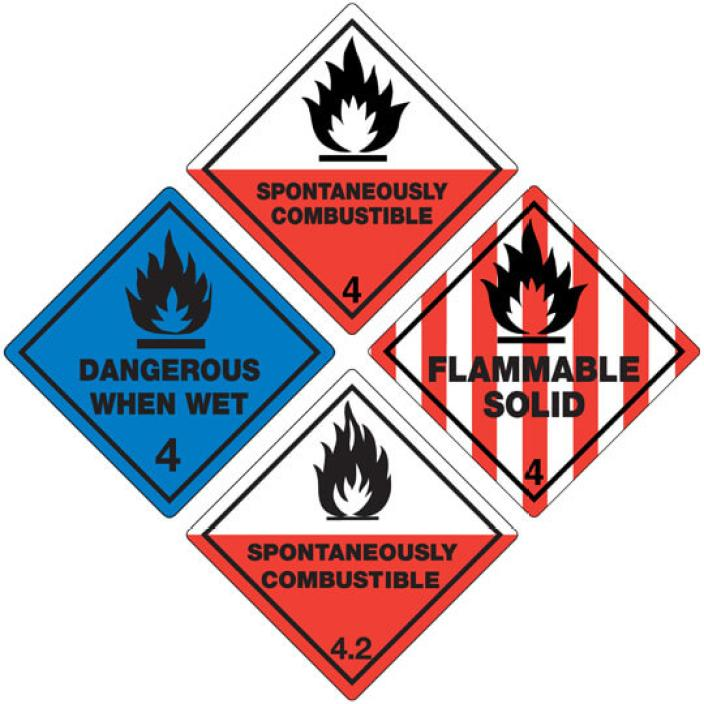chair: (372, 186, 695, 515)
charging station: (188, 4, 516, 332), (189, 370, 515, 697)
clock: (7, 188, 332, 515)
